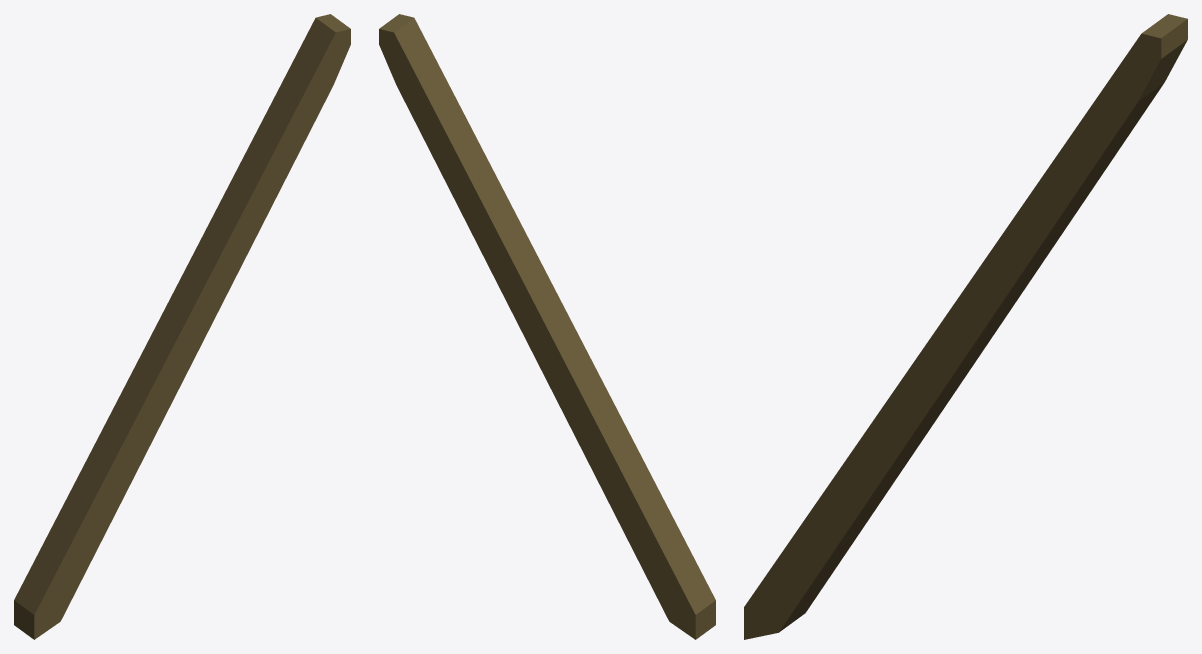
The model's file is chart_obstacle_031.obj.
3 views of the same model, side by side, from view 1: azimuth 30°, elevation 25°; view 2: azimuth 150°, elevation 25°; view 3: azimuth 330°, elevation 25° (orthographic). The views are drawn at different scales.
Parts seen in each view (by area): view 1: chart_obstacle_031; view 2: chart_obstacle_031; view 3: chart_obstacle_031.
Boxes of the visible parts, x1=… form: chart_obstacle_031: x1=14, y1=14, x2=350, y2=639; chart_obstacle_031: x1=379, y1=14, x2=715, y2=639; chart_obstacle_031: x1=744, y1=14, x2=1187, y2=639.
Size of the model in its own units: 72 by 116 by 8.
